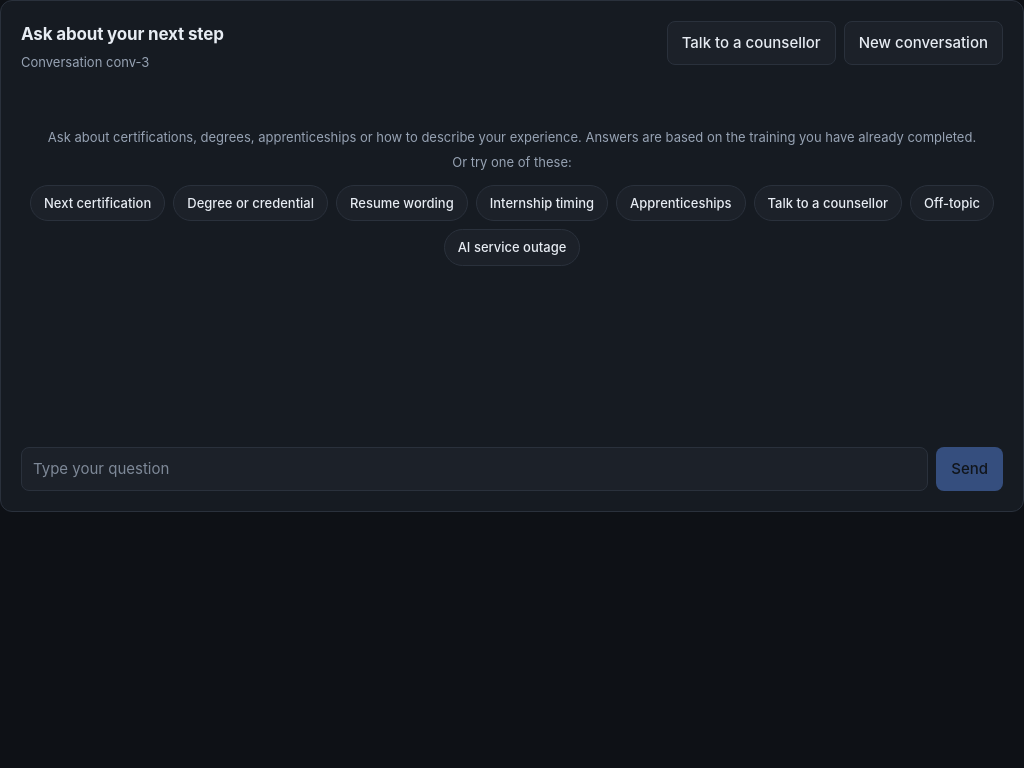
Test: CustomerChat › surfaces the API error code when a message is rejected
Type "hello" into the field named "Message" at {"x": 475, "y": 469}, box [21, 447, 928, 491]
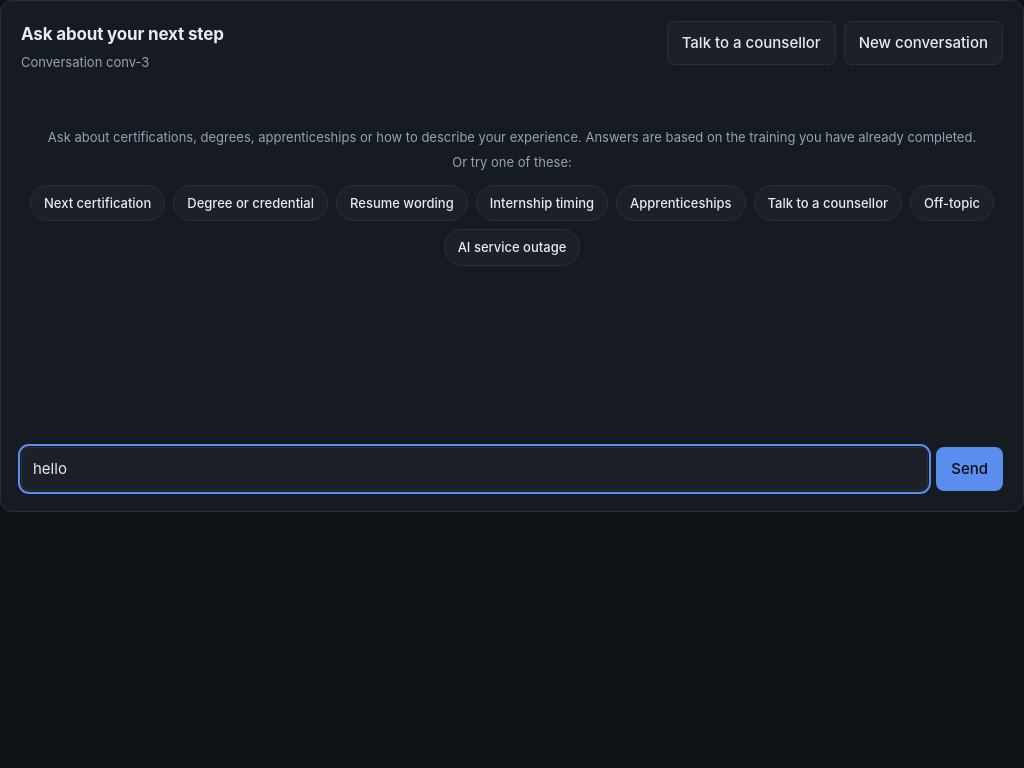
Click the button "Send" at {"x": 970, "y": 469}, box [936, 447, 1003, 491]
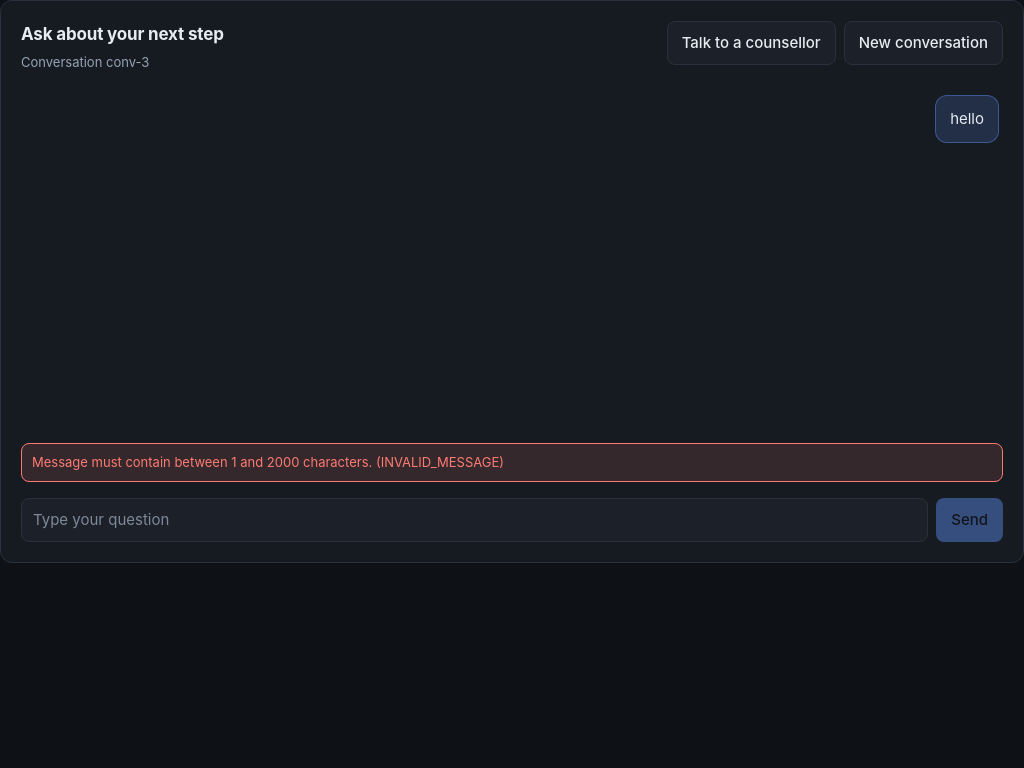
Check: the message shows "INVALID_MESSAGE", box [32, 454, 504, 470]
